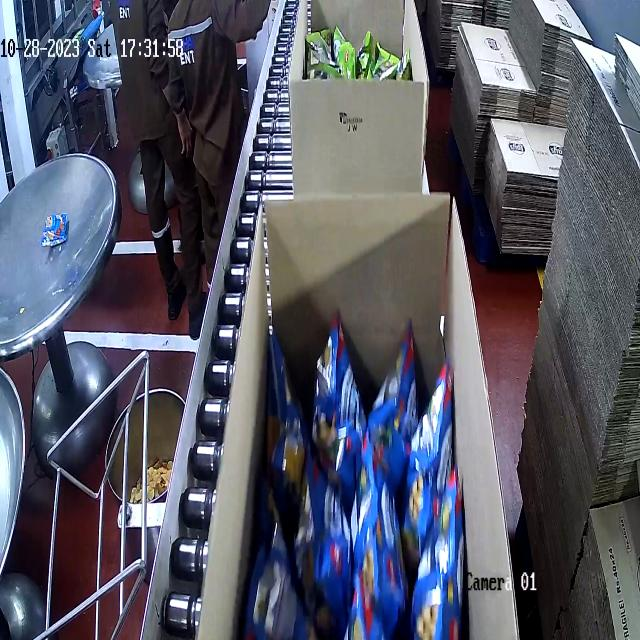PAPRIKA: (258, 334, 466, 640)
YOGURT_HERB: (307, 19, 411, 82)
